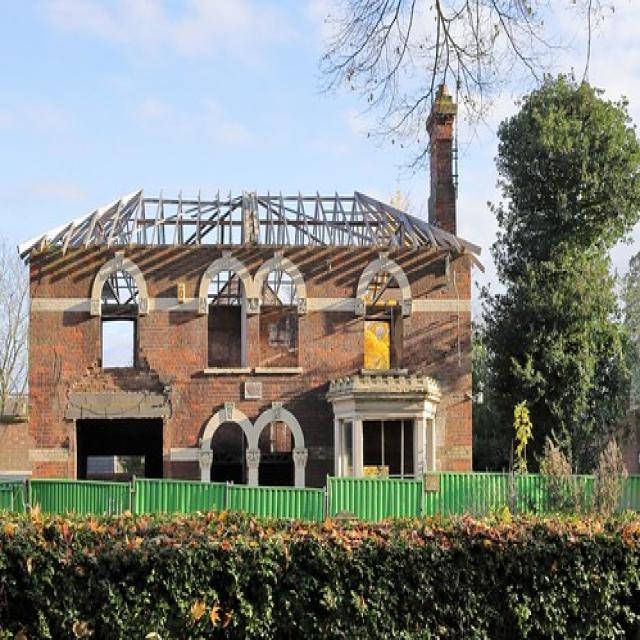building: (13, 86, 480, 492)
